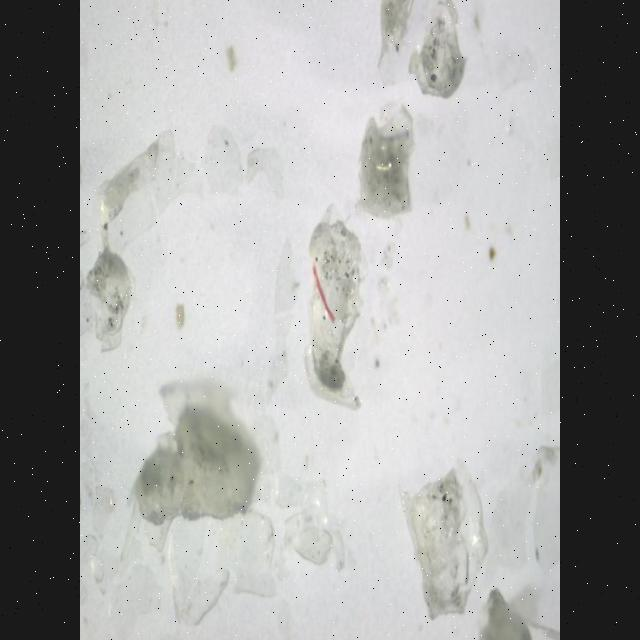Fibre: (302, 205, 366, 413)
